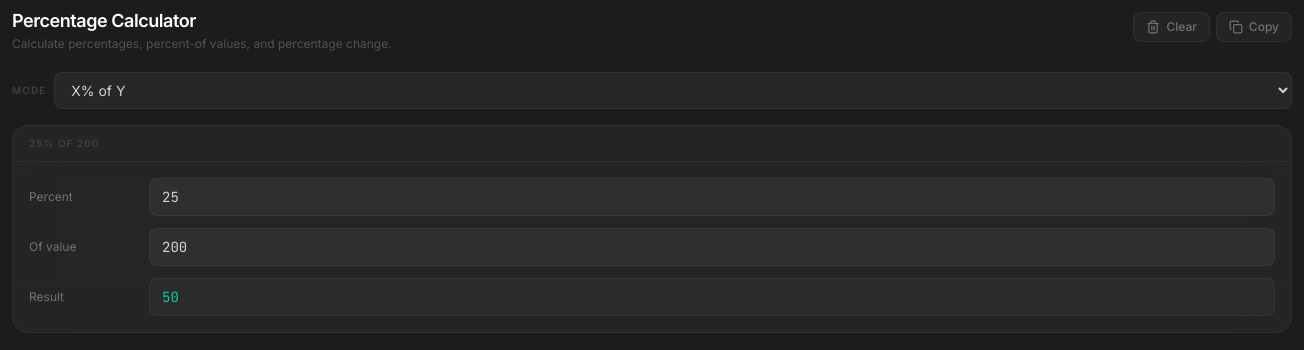
it: PercentageCalculatorTool › computes percent change in that mode
Select "% change from X to Y" in the dropdown labelled "Mode". click: (673, 90)
box: [54, 72, 1292, 109]
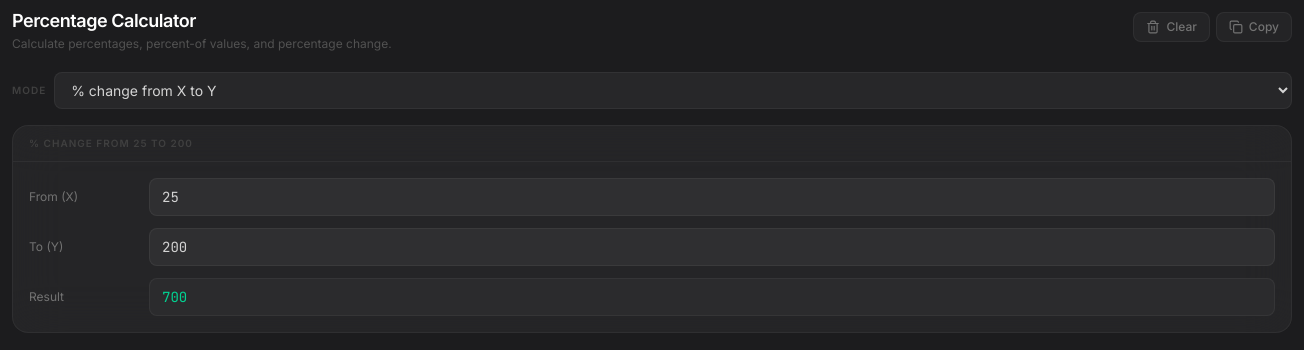
Replace the text in the number field named "First value" with "100". click: (712, 197)
box: [149, 178, 1275, 216]
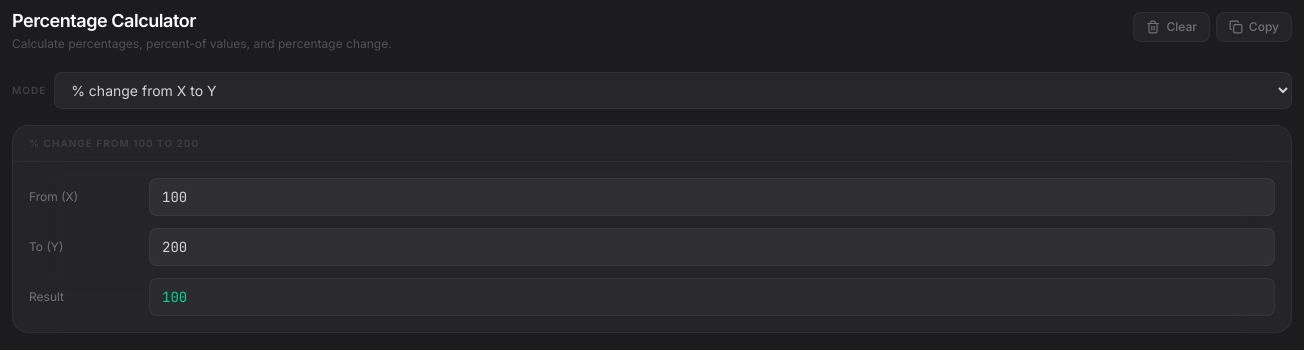
Replace the text in the number field named "Second value" with "150". click: (712, 247)
box: [149, 228, 1275, 266]
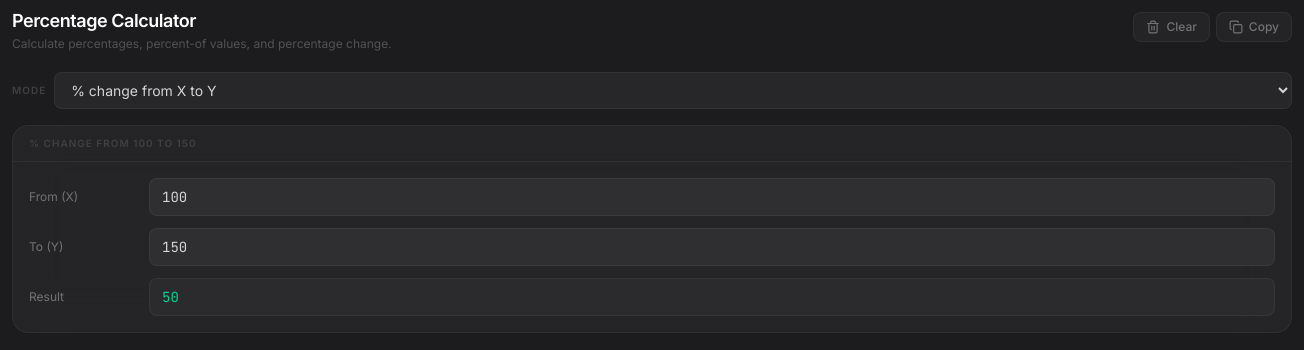
Check: the field labelled "Result" holds "50", box [149, 278, 1275, 316]
